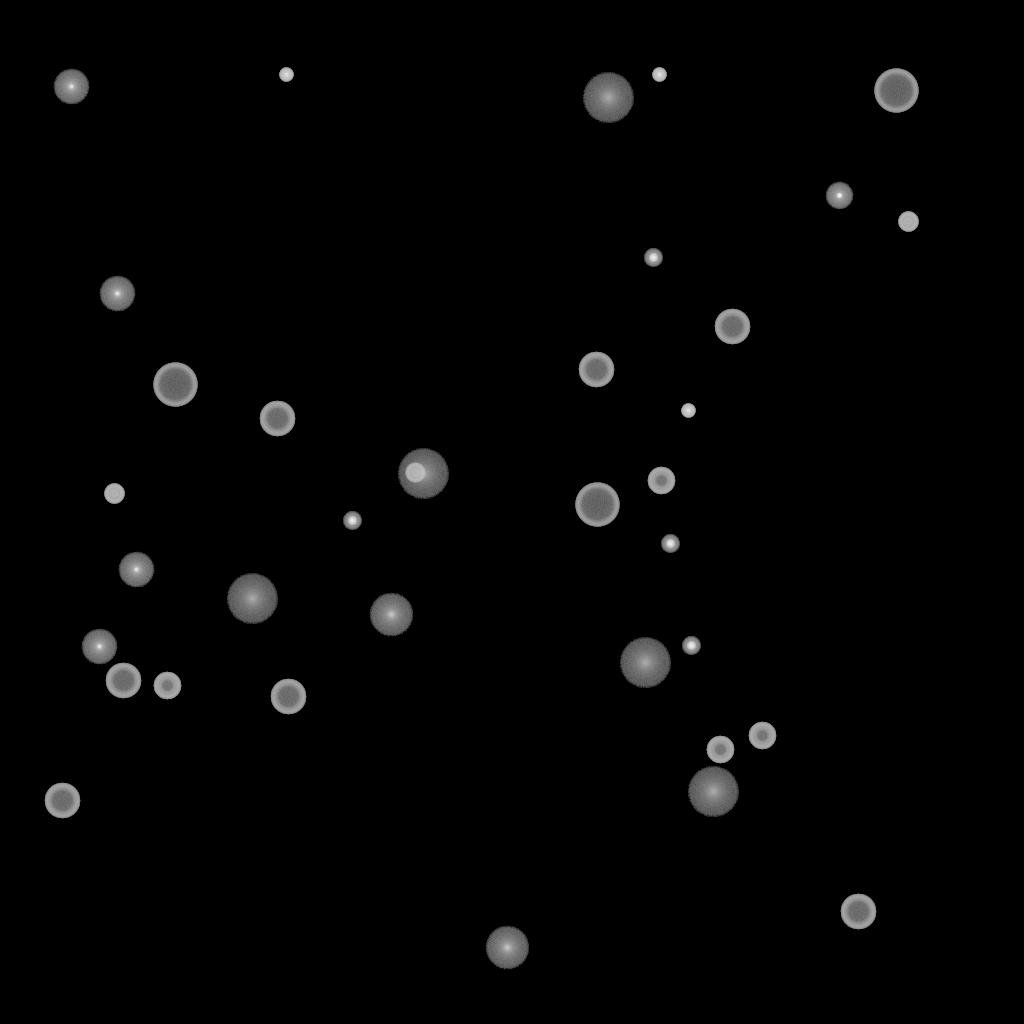depth:-10: (825, 182, 853, 210)
depth:-20: (682, 637, 700, 655), (644, 249, 662, 267), (661, 535, 679, 553), (343, 512, 361, 530)
depth:-30: (681, 404, 695, 418), (652, 68, 666, 82), (279, 68, 293, 82)
depth:-40: (405, 463, 425, 483), (898, 212, 918, 232), (104, 484, 124, 504)
depth:-50: (153, 672, 181, 700), (748, 722, 776, 750), (706, 736, 734, 764), (647, 467, 675, 495)
depth:-60: (259, 401, 295, 437), (270, 679, 306, 715), (714, 309, 750, 345), (578, 352, 614, 388), (105, 663, 141, 699), (840, 894, 876, 930), (44, 783, 80, 819)
depth:-70: (874, 69, 918, 113), (575, 483, 619, 527), (153, 363, 197, 407)
depth:0: (81, 629, 117, 665), (53, 69, 89, 105), (99, 276, 135, 312), (118, 552, 154, 588)
depth:10: (485, 926, 529, 970), (369, 593, 413, 637)
depth:20: (397, 449, 449, 499), (226, 574, 278, 624), (582, 73, 634, 123), (687, 767, 739, 817), (619, 638, 671, 688)
